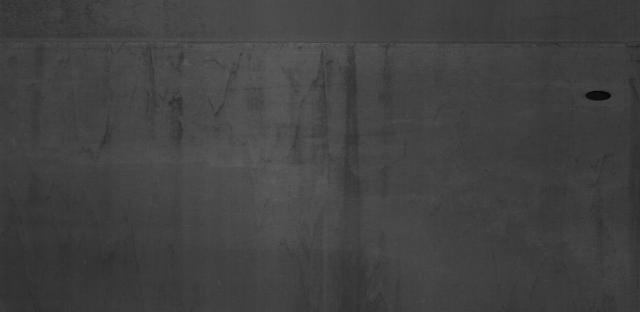punching_hole: (579, 86, 616, 104)
silk_spot: (101, 56, 390, 164), (482, 158, 618, 304), (249, 188, 411, 306), (10, 184, 146, 301)
welding_line: (8, 33, 640, 54)
